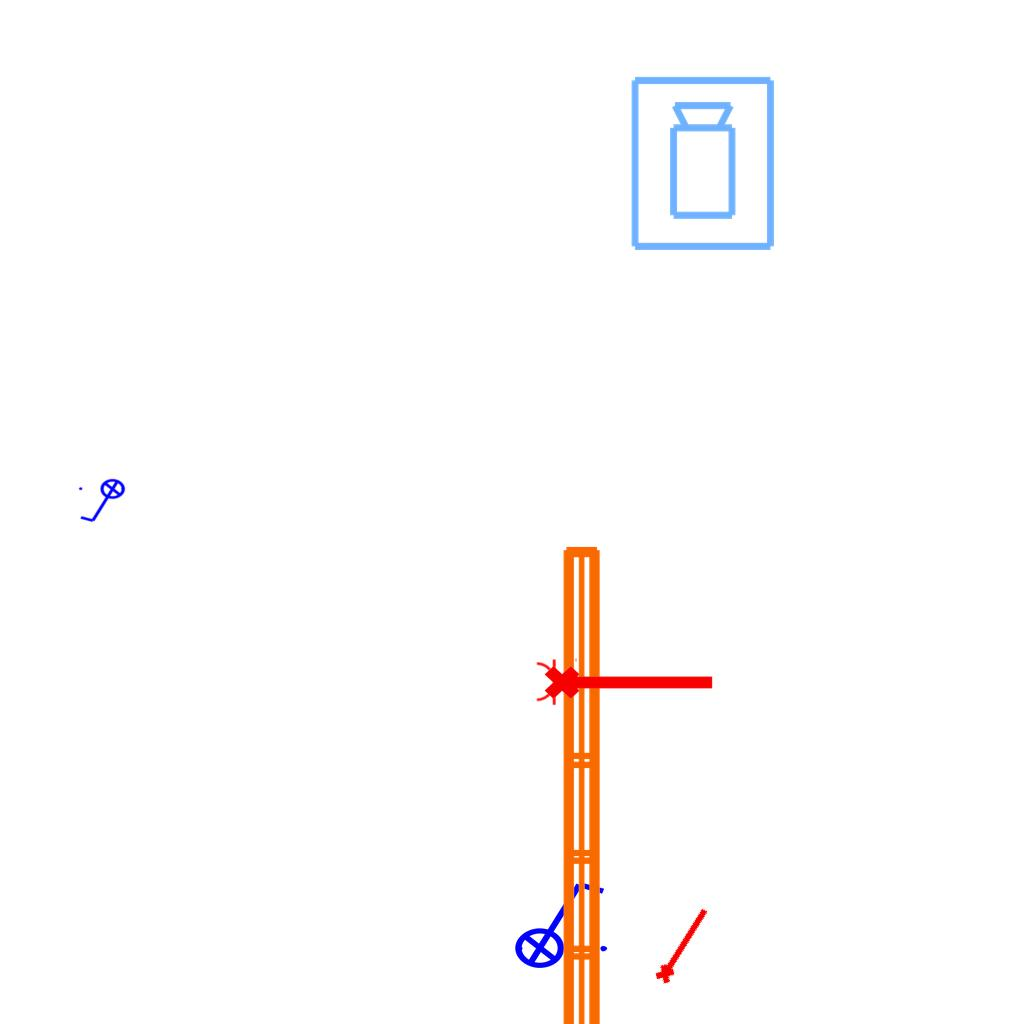ASR_Ansaugoeffnung: (542, 657, 718, 703), (648, 901, 716, 988)
Ambulanz_Pendelleuchte_LED: (551, 536, 663, 1024)
Ausschalter_beleuchtet: (501, 874, 613, 970), (76, 478, 132, 526)
KFO_Kamera_mit_Festobjektiv: (627, 73, 781, 255)
Schukosteckdose_einfach: (535, 656, 578, 706)
